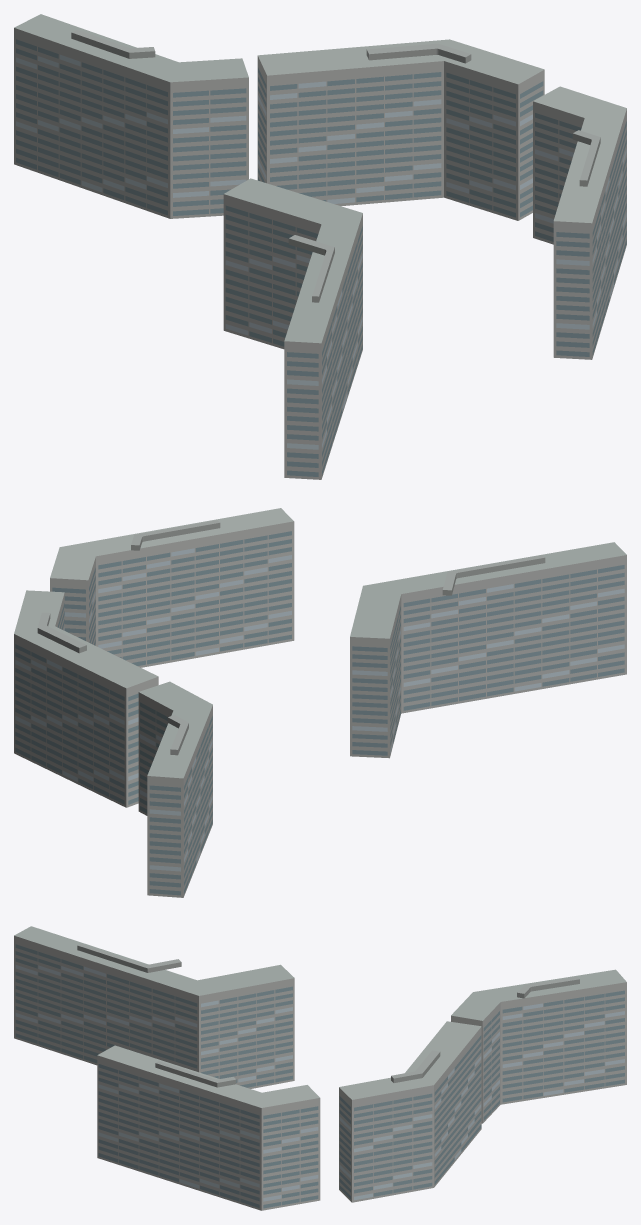
The model's file is apt-a13704404.glb.
3 renders of one model, top to bottom at view 1: azimuth 30°, elevation 25°; view 2: azimuth 150°, elevation 25°; view 3: azimuth 270°, elevation 25°, orthographic. The views are drawn at different scales.
Parts seen in each view (by area): view 1: apt-a13704404; view 2: apt-a13704404; view 3: apt-a13704404.
Part boxes in pixels (x1=…): apt-a13704404: x1=14, y1=14, x2=626, y2=479; apt-a13704404: x1=14, y1=508, x2=626, y2=897; apt-a13704404: x1=14, y1=926, x2=626, y2=1210.
Size of the model in its own units: 174 by 47.81 by 247.
